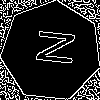N: (26, 26, 76, 67)
